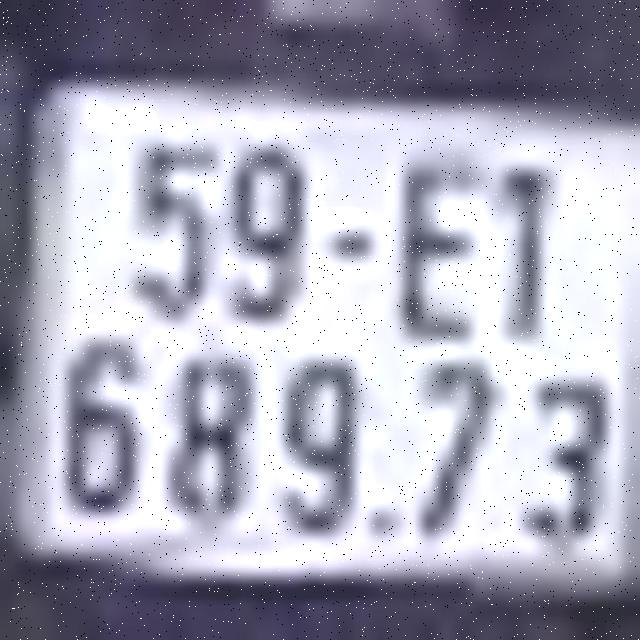1: (496, 162, 550, 344)
3: (523, 368, 610, 562)
5: (130, 137, 216, 322)
6: (62, 332, 142, 516)
7: (414, 356, 498, 543)
8: (170, 354, 250, 526)
9: (230, 143, 304, 323), (283, 356, 355, 534)
E: (402, 156, 486, 342)
